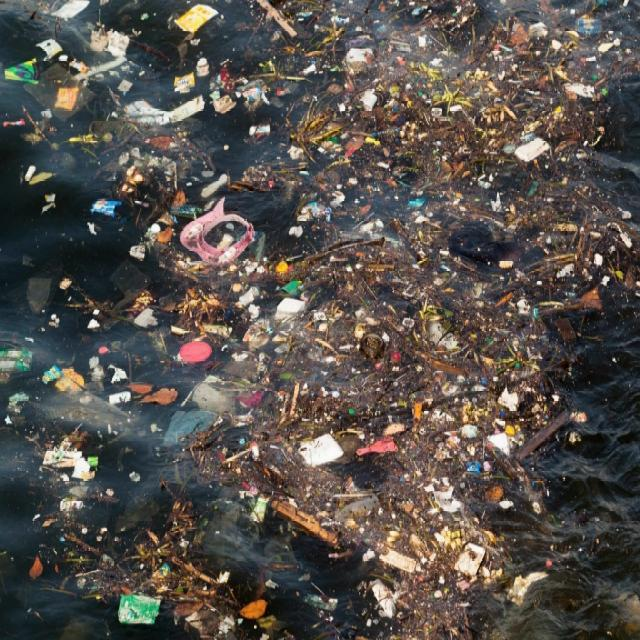plastic watse: (32, 54, 569, 637), (301, 362, 511, 636), (345, 25, 607, 231)
